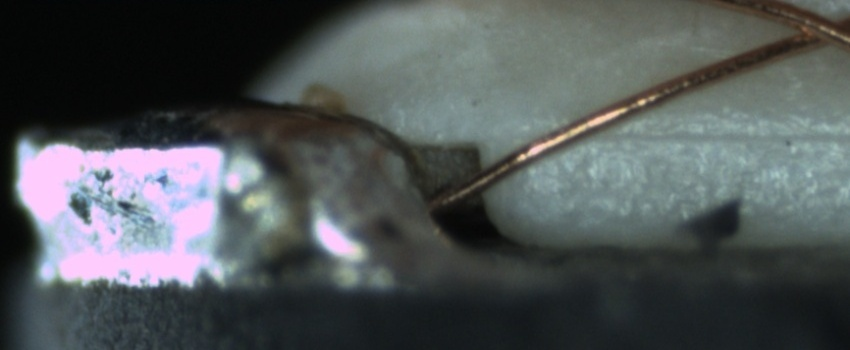CL: (772, 5, 847, 54)
DL: (559, 104, 846, 169)
